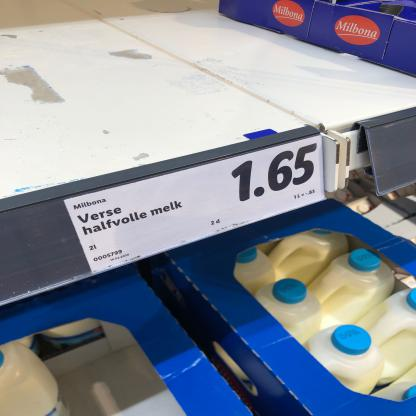prtg: (64, 136, 326, 276)
